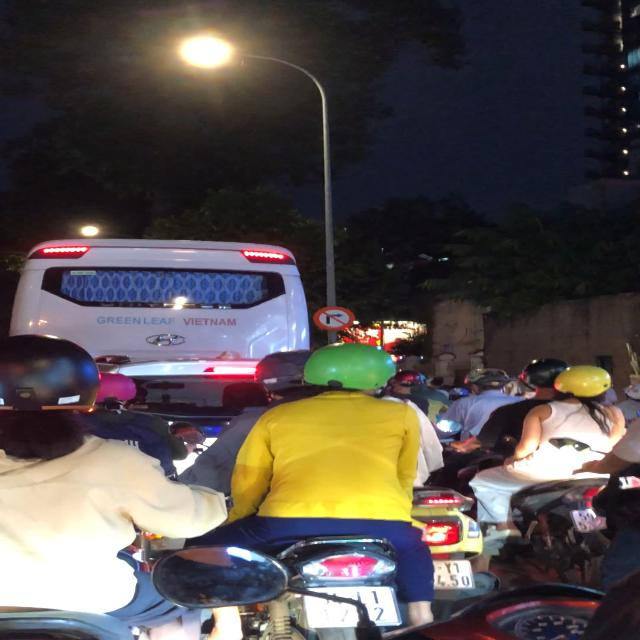Bien bao cam re phai: (310, 304, 356, 331)
